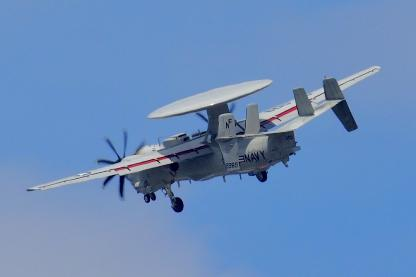C5: (26, 65, 380, 212)
